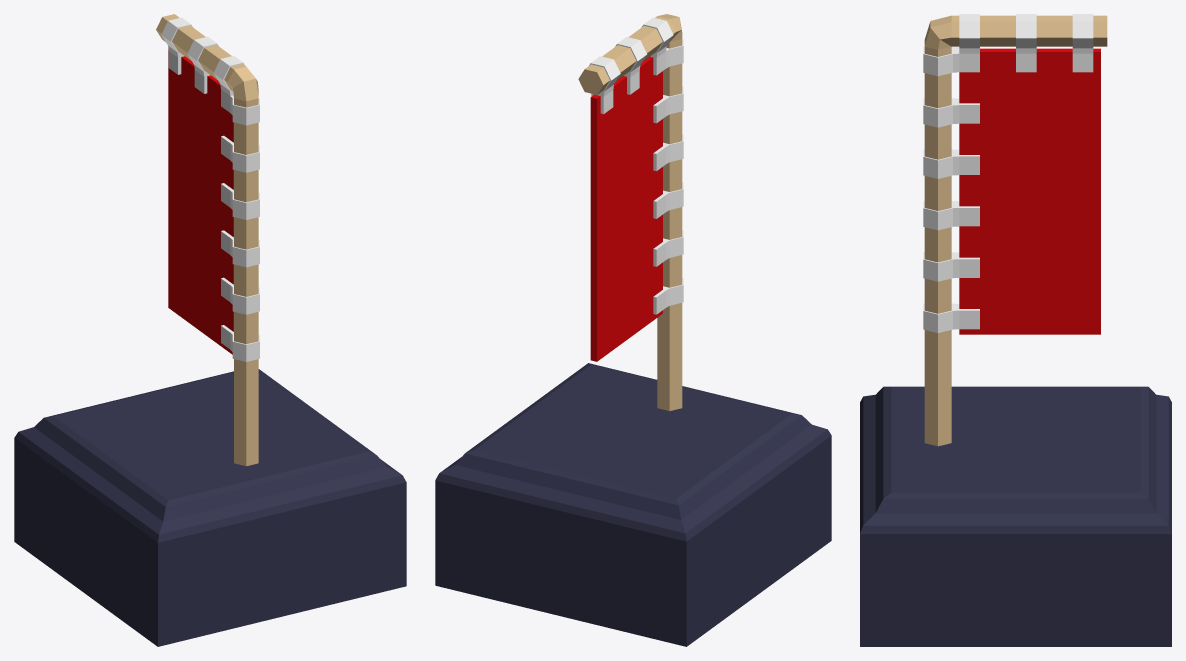
File: WarBanner(Knight).fbx
3 views of the same model, side by side, from view 1: azimuth 30°, elevation 25°; view 2: azimuth 150°, elevation 25°; view 3: azimuth 270°, elevation 25° (orthographic). The views are drawn at different scales.
Parts seen in each view (by area): view 1: WarBanner; view 2: WarBanner; view 3: WarBanner.
Boxes of the visible parts, x1,y1,x2,y2 form: WarBanner: (14, 14, 406, 646); WarBanner: (435, 14, 831, 646); WarBanner: (860, 14, 1171, 646).
Bounding box in the file's own units: 200 × 399 × 200.
